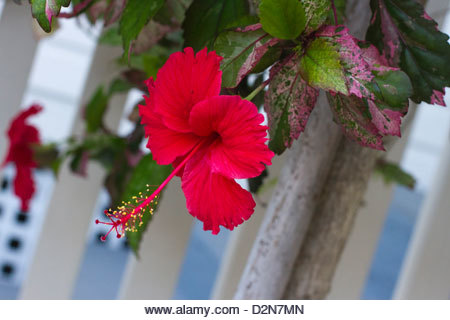Hibiscus: (102, 45, 276, 243), (2, 96, 58, 215)
